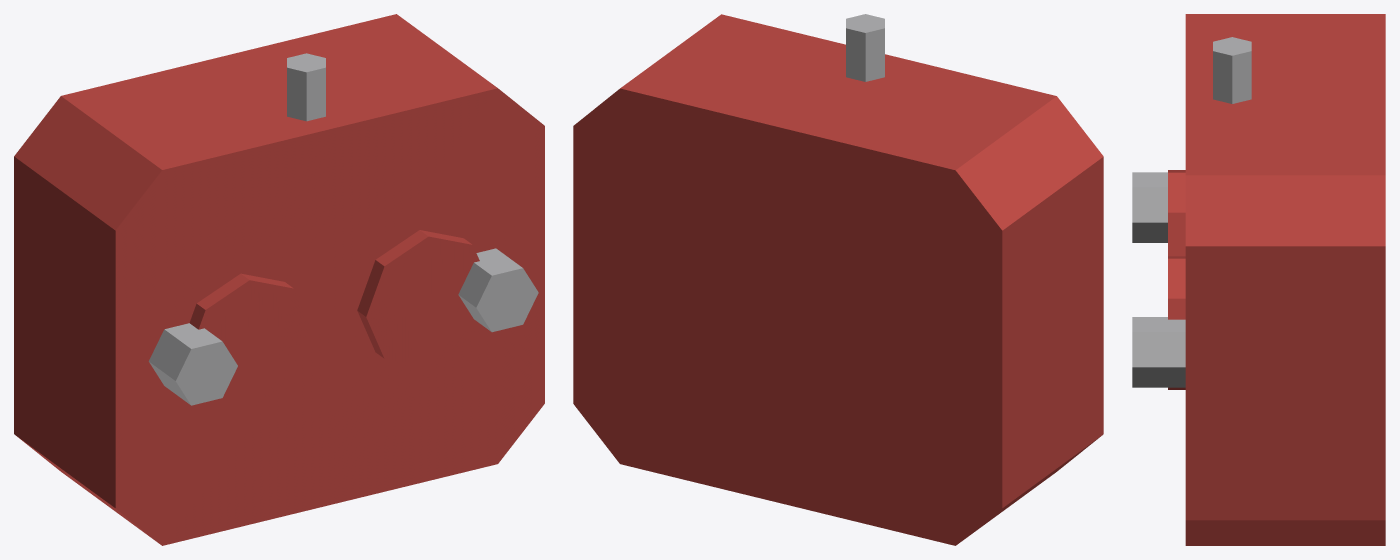
File: four_piston_axial_lod1.glb
3 views of the same model, side by side, from view 1: azimuth 30°, elevation 25°; view 2: azimuth 150°, elevation 25°; view 3: azimuth 270°, elevation 25° (orthographic).
Parts seen in each view (by area): view 1: four_piston_axial_lod1; view 2: four_piston_axial_lod1; view 3: four_piston_axial_lod1.
Boxes of the visible parts, x1,y1,x2,y2 form: four_piston_axial_lod1: (14,14,544,545); four_piston_axial_lod1: (573,14,1103,545); four_piston_axial_lod1: (1132,14,1385,545).
Size of the model in its own units: 0.11 by 0.104 by 0.057.
